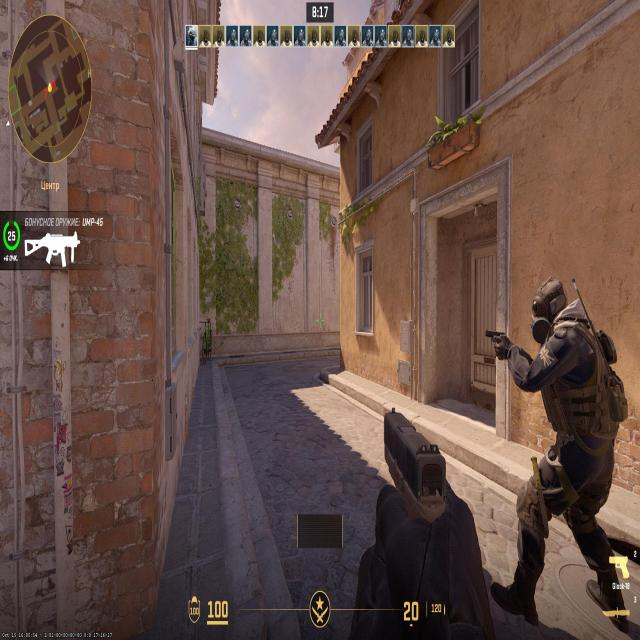CT: (534, 282, 603, 546)
CT_heat: (537, 291, 561, 328)
